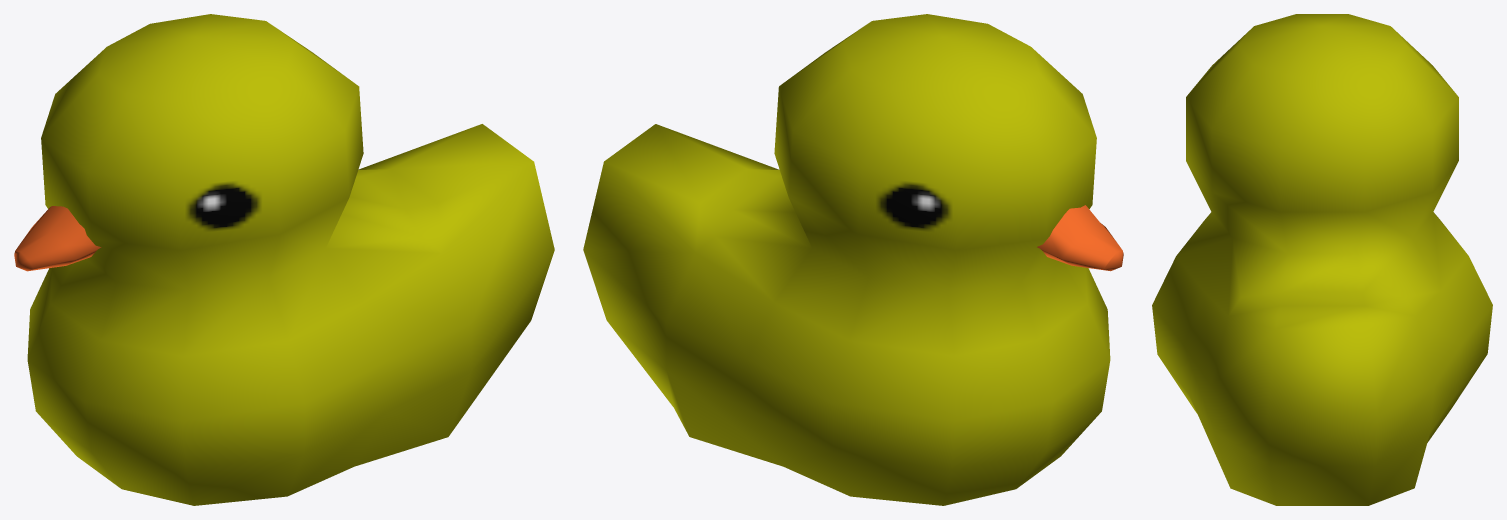
The model's file is rubberduck.FBX.
The picture shows the model from 3 angles, left to right: view 1: azimuth 30°, elevation 25°; view 2: azimuth 150°, elevation 25°; view 3: azimuth 270°, elevation 25°; orthographic projection. The views are drawn at different scales.
Visible parts, largest first — view 1: Sphere001; view 2: Sphere001; view 3: Sphere001.
Boxes of the visible parts, x1,y1,x2,y2 form: Sphere001: (14, 14, 554, 505); Sphere001: (583, 14, 1123, 505); Sphere001: (1152, 14, 1492, 505).
Bounding box in the file's own units: 246 × 191 × 158.
Materials: 1 (1 with a texture image).
